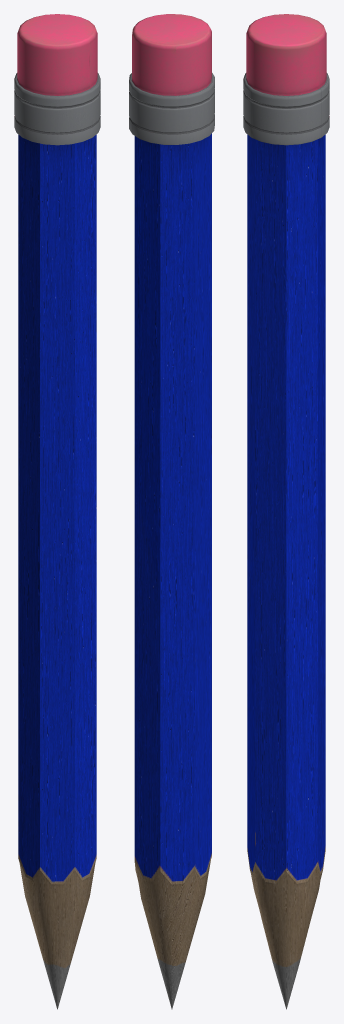
Rendered from Pencil (2).fbx.
3 renders of one model, left to right at view 1: azimuth 90°, elevation 25°; view 2: azimuth 150°, elevation 25°; view 3: azimuth 270°, elevation 25°, orthographic.
Parts seen in each view (by area): view 1: Pencil; view 2: Pencil; view 3: Pencil.
Part boxes in pixels (x1=…): Pencil: x1=14, y1=14, x2=100, y2=1009; Pencil: x1=129, y1=14, x2=214, y2=1009; Pencil: x1=243, y1=14, x2=329, y2=1009.
Size of the model in its own units: 2.15 by 26.97 by 2.15.
Materials: 1 (1 with a texture image).
